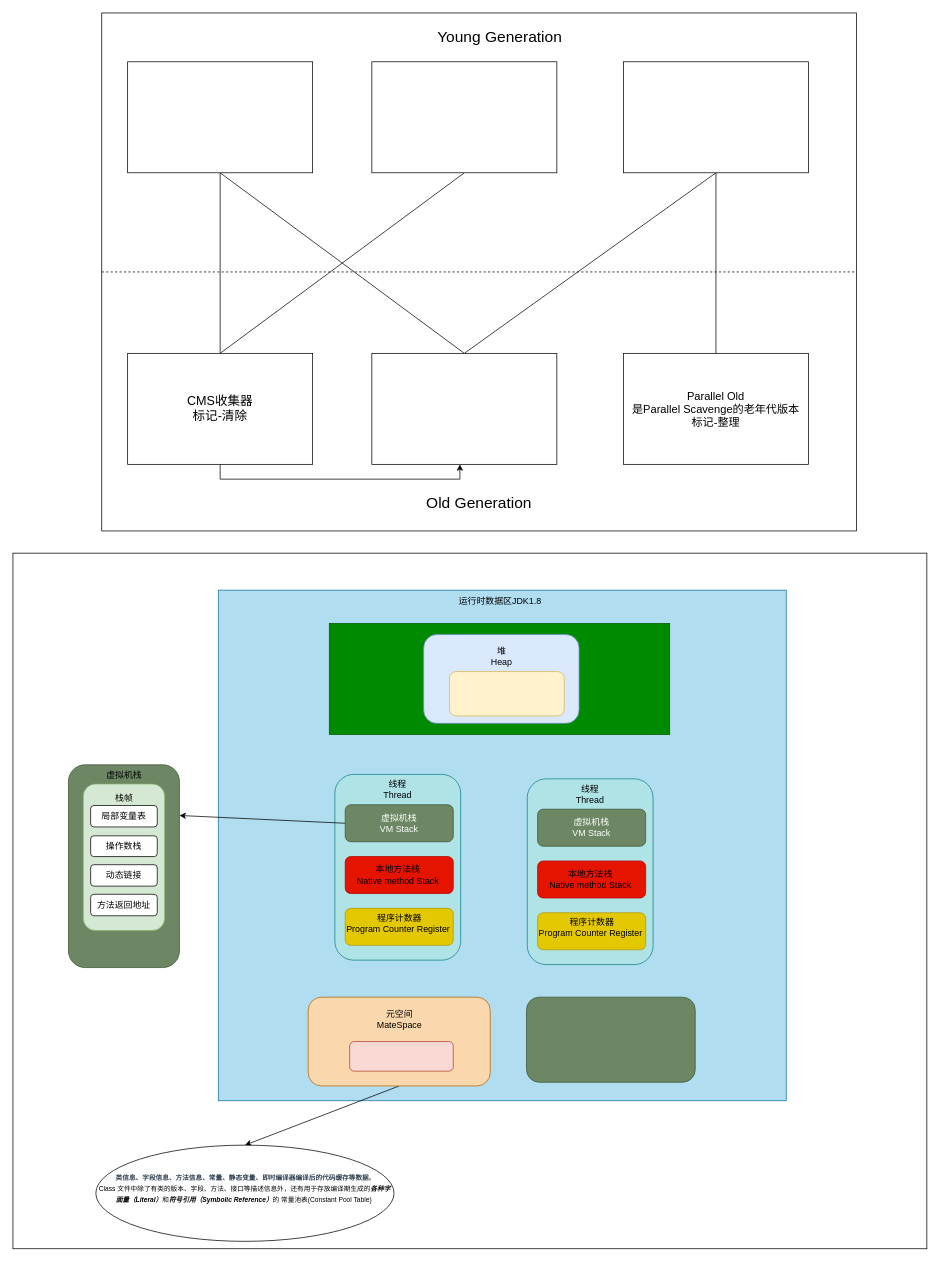
This 940x1262 diagram has some shape labels left out. Here are the shapes that lost their labels. From the top down, the centre of each, then its label:
At point 220,117: "Serial 串行 标记-复制".
At point 464,117: "ParNew 它是Serial的多线程版本 标记-复制".
At point 715,117: "Parallel Scavenge 多线程 标记复制".
At point 464,408: "Serial Old 是Serial的老年代版本 标记-整理".
At point 506,693: "字符串常量池和静态变量 String Constant Pool".
At point 401,1056: "运行时常量池 Runtime onstant Pool".
At point 610,1039: "直接内存 Direct Memory".
